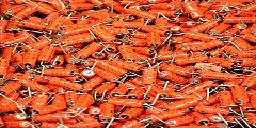Electrolytic Capacitor: (100, 92, 153, 112)
